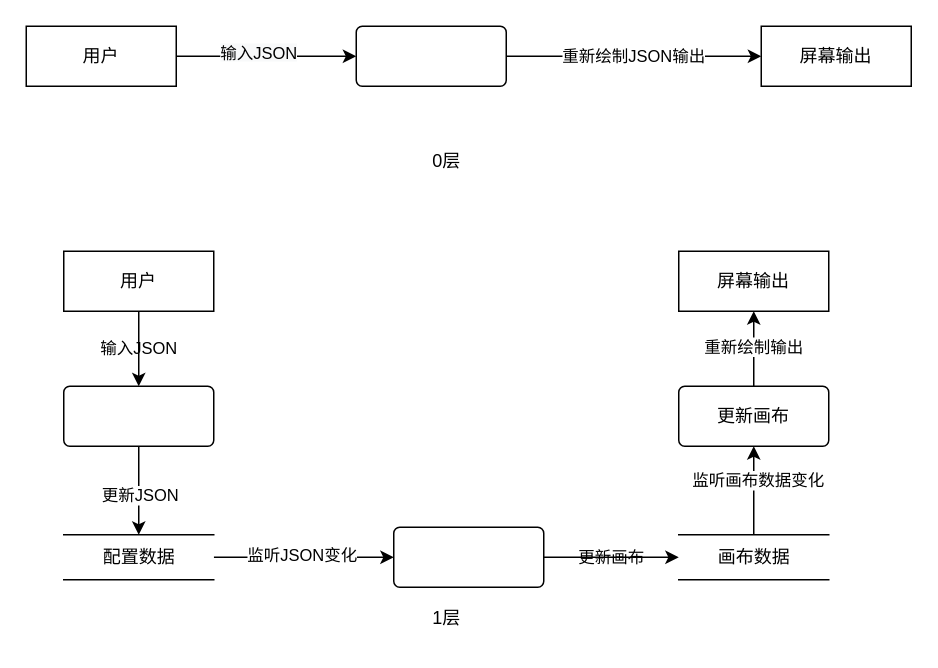
Image size: 938x668. Some labels were removed from this diagram. Each missing label, with the centre of its shape:
jsoncrack: [430,55]
JSON处理器: [138,415]
数据更新: [468,556]
